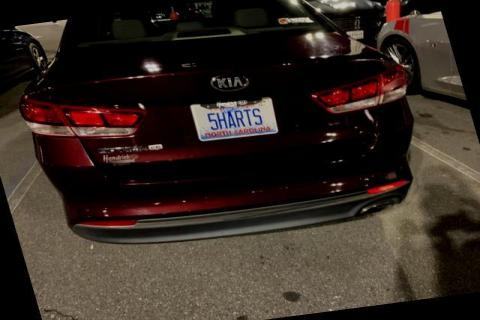LicensePlate: (188, 96, 277, 142)
